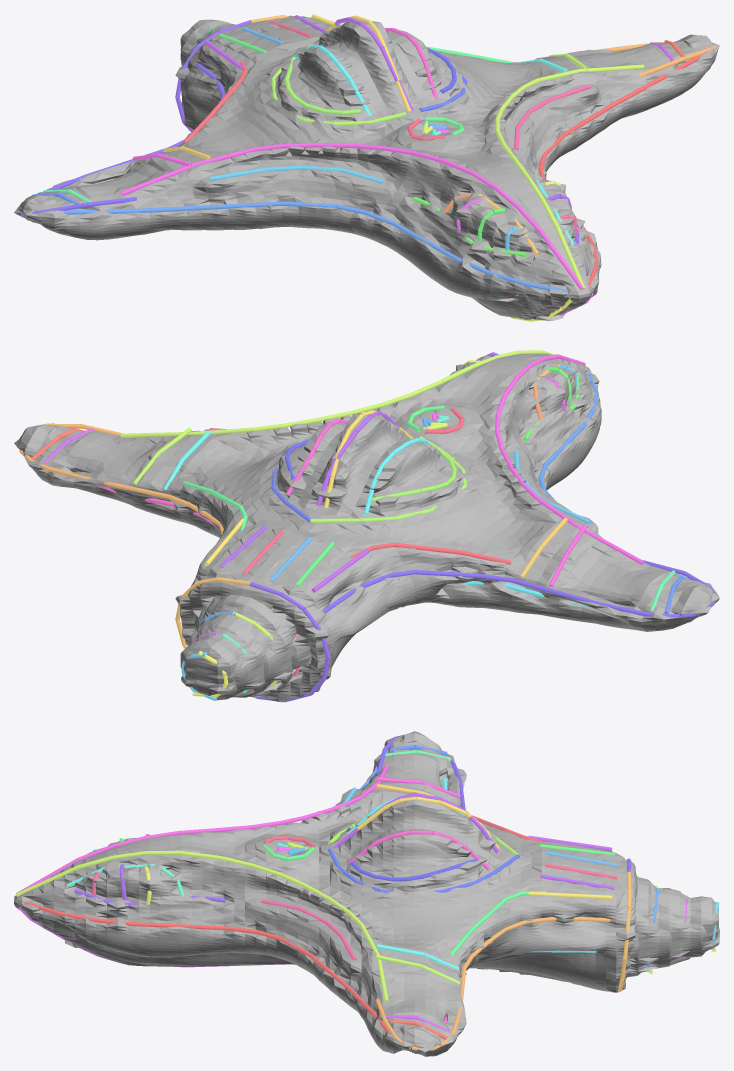
Rendered from author1_ship.gltf.
The picture shows the model from 3 angles, top to bottom: view 1: azimuth 30°, elevation 25°; view 2: azimuth 150°, elevation 25°; view 3: azimuth 270°, elevation 25°; orthographic projection. The views are drawn at different scales.
Bounding box in the file's own units: 0.7146 × 0.2011 × 0.6831.
